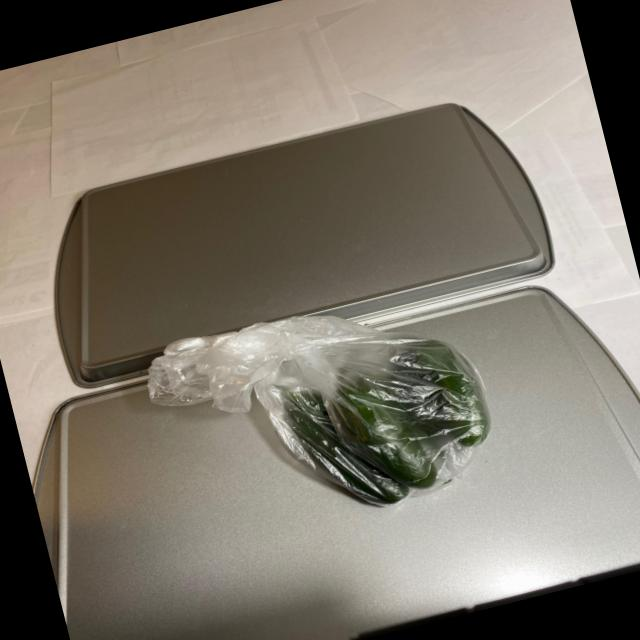chilli: (233, 298, 511, 532)
